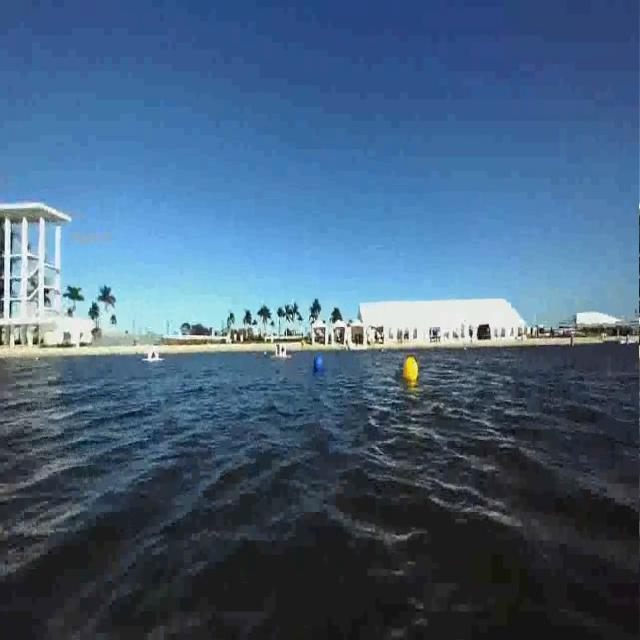blue-buoy: (312, 354, 326, 381)
yellow-buoy: (402, 356, 424, 384)
